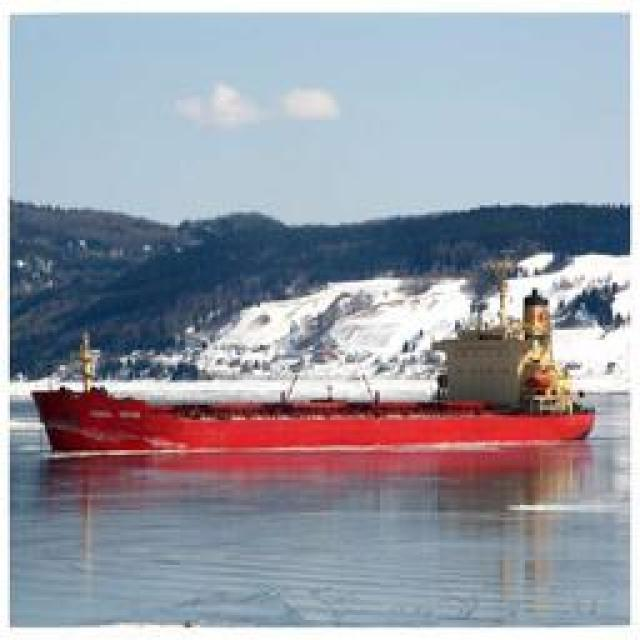CIV_Ship: (41, 366, 614, 449)
